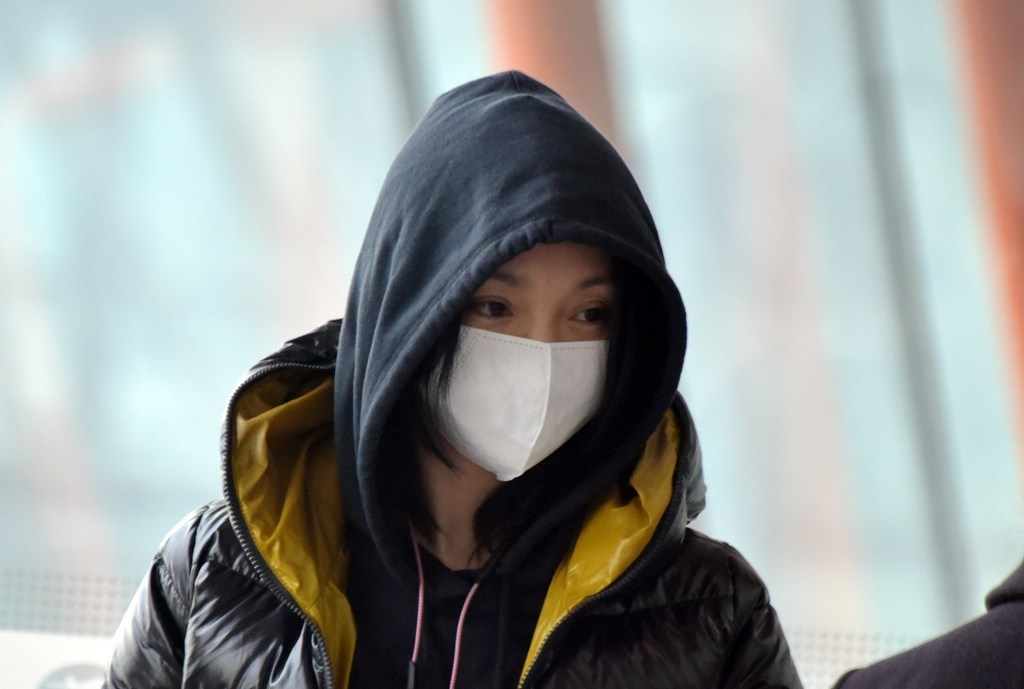face_mask: (426, 225, 622, 479)
